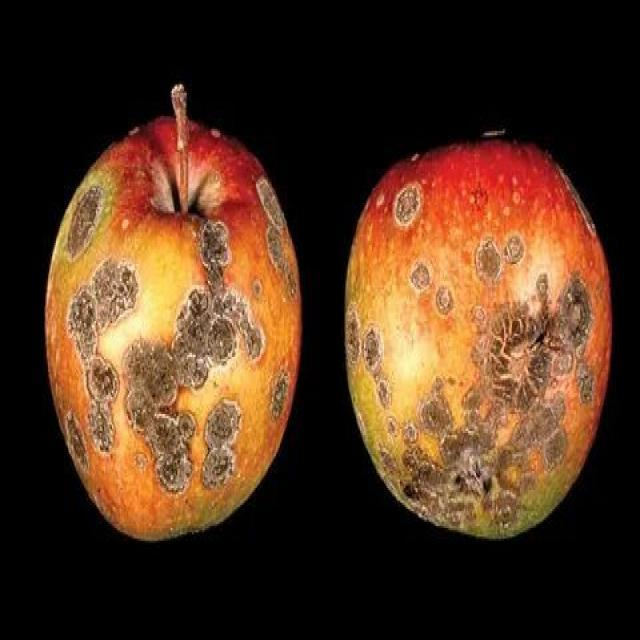Rotten: (336, 116, 614, 542), (53, 103, 310, 547)
